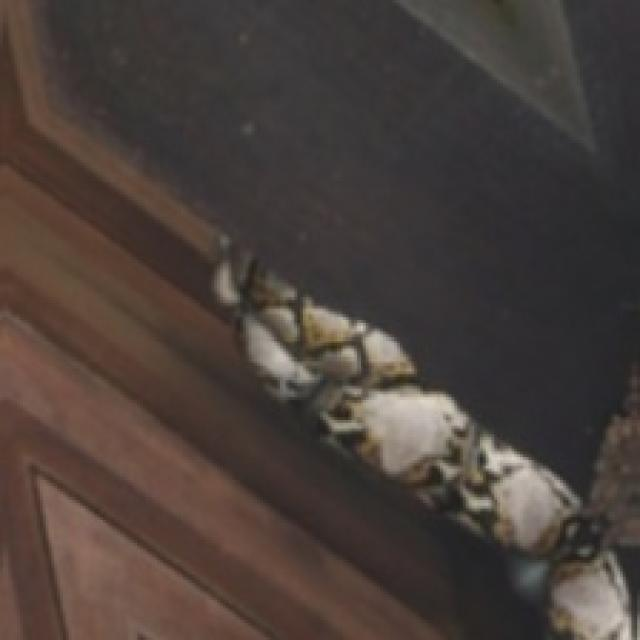reticulated python: (214, 246, 637, 637)
